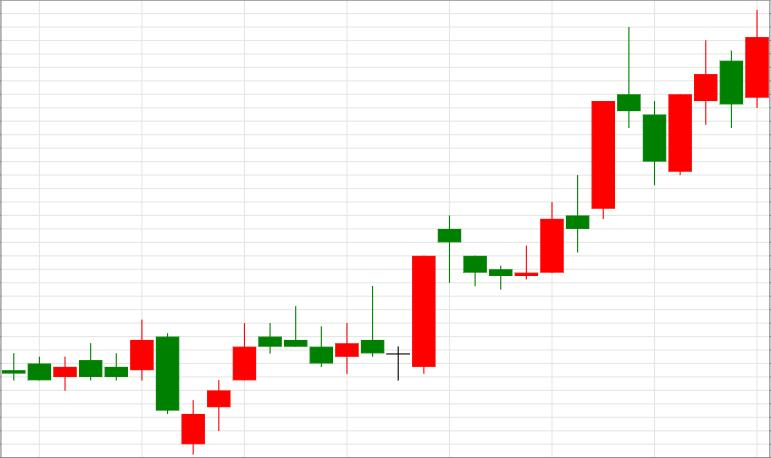evening_star_fall: (515, 27, 666, 280)
